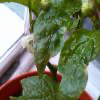Bell_pepper leaf spot: (29, 6, 77, 82), (57, 29, 99, 99)
